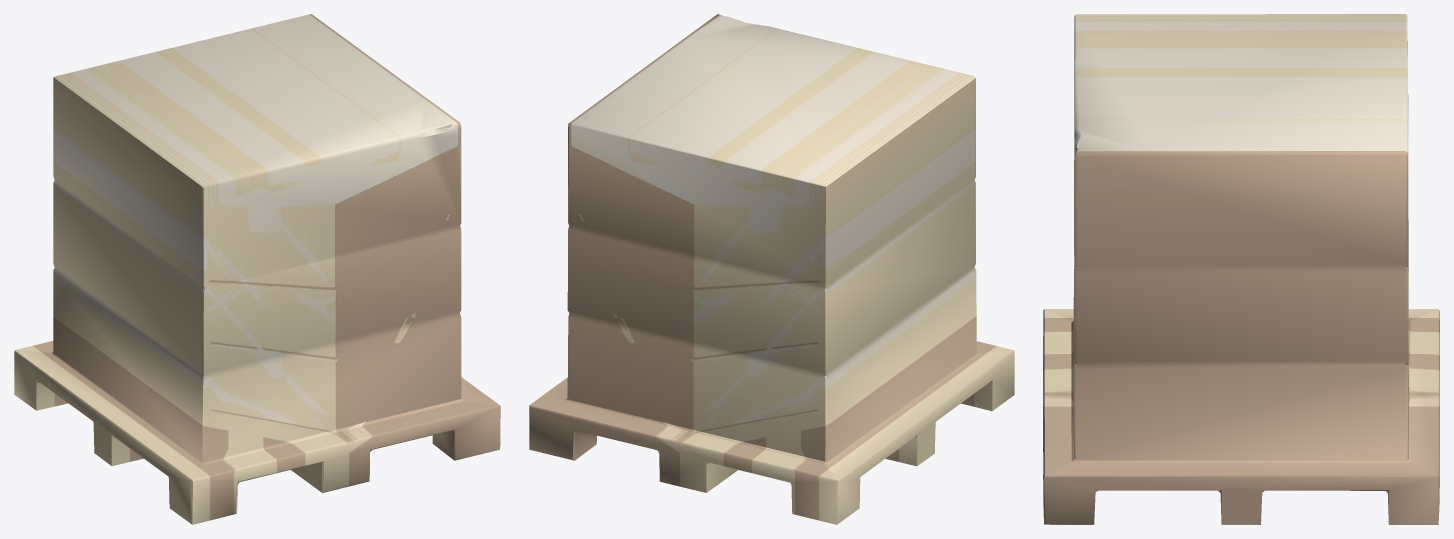
3 views of the same model, side by side, from view 1: azimuth 30°, elevation 25°; view 2: azimuth 150°, elevation 25°; view 3: azimuth 270°, elevation 25° (orthographic). The views are drawn at different scales.
Visible parts, largest first — view 1: Decor_box_stack_a; view 2: Decor_box_stack_a; view 3: Decor_box_stack_a.
Part boxes in pixels (bbox=[...]): Decor_box_stack_a: bbox=[14, 14, 500, 524]; Decor_box_stack_a: bbox=[529, 14, 1014, 524]; Decor_box_stack_a: bbox=[1043, 14, 1439, 524].
Size of the model in its own units: 1.3 by 1.3 by 1.3.
1 material, 1 textured.
